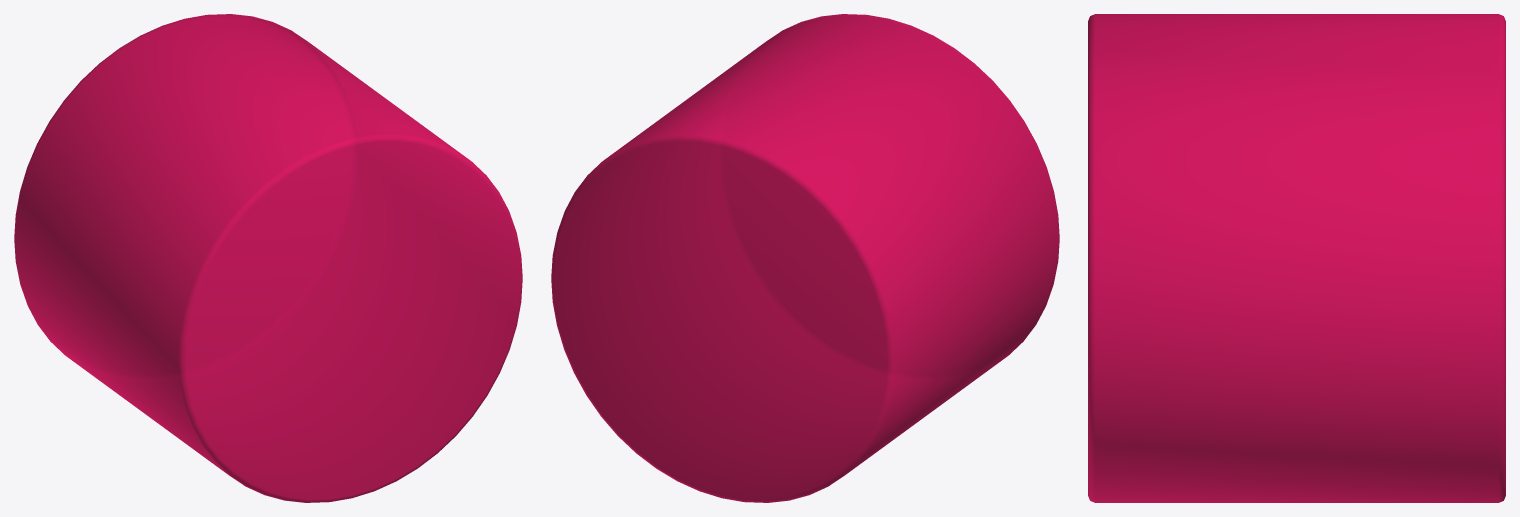
File: ShapeDrop_FinalAssets-CirclePlayer-Final-Optimized.fbx
The picture shows the model from 3 angles, left to right: view 1: azimuth 30°, elevation 25°; view 2: azimuth 150°, elevation 25°; view 3: azimuth 270°, elevation 25°; orthographic projection. The views are drawn at different scales.
Parts seen in each view (by area): view 1: CirclePlayer - Mat-Optimized; view 2: CirclePlayer - Mat-Optimized; view 3: CirclePlayer - Mat-Optimized.
Part boxes in pixels (bbox=[...]): CirclePlayer - Mat-Optimized: bbox=[14, 14, 522, 502]; CirclePlayer - Mat-Optimized: bbox=[551, 14, 1059, 502]; CirclePlayer - Mat-Optimized: bbox=[1088, 14, 1505, 502].
Bounding box in the file's own units: 400 × 400 × 342.
